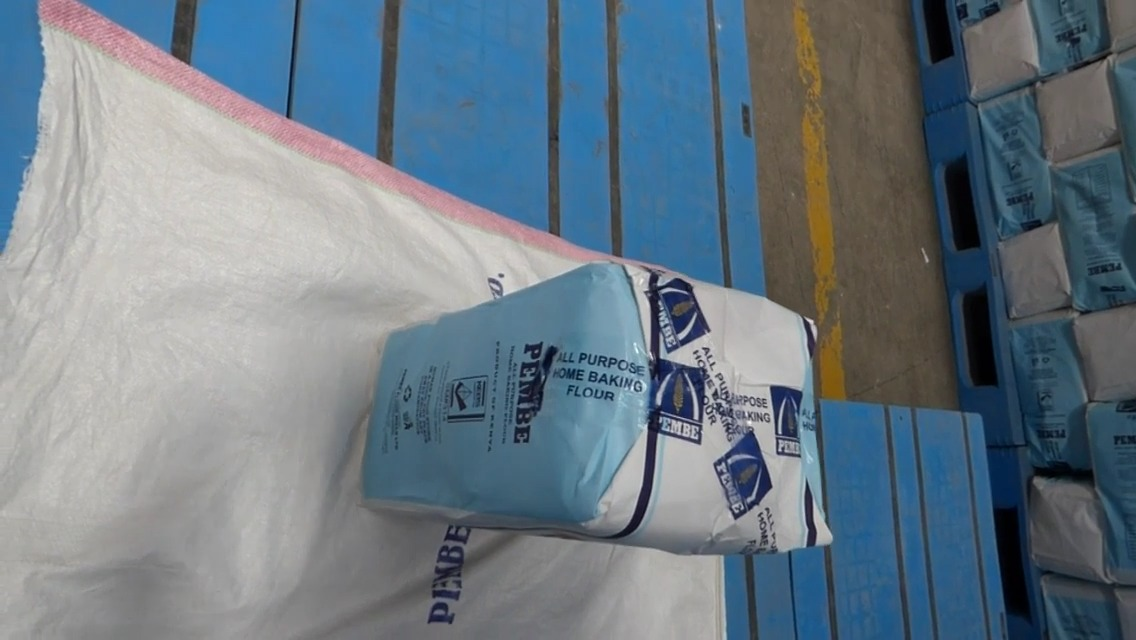wheat_flour_blue_label: (363, 258, 830, 548)
